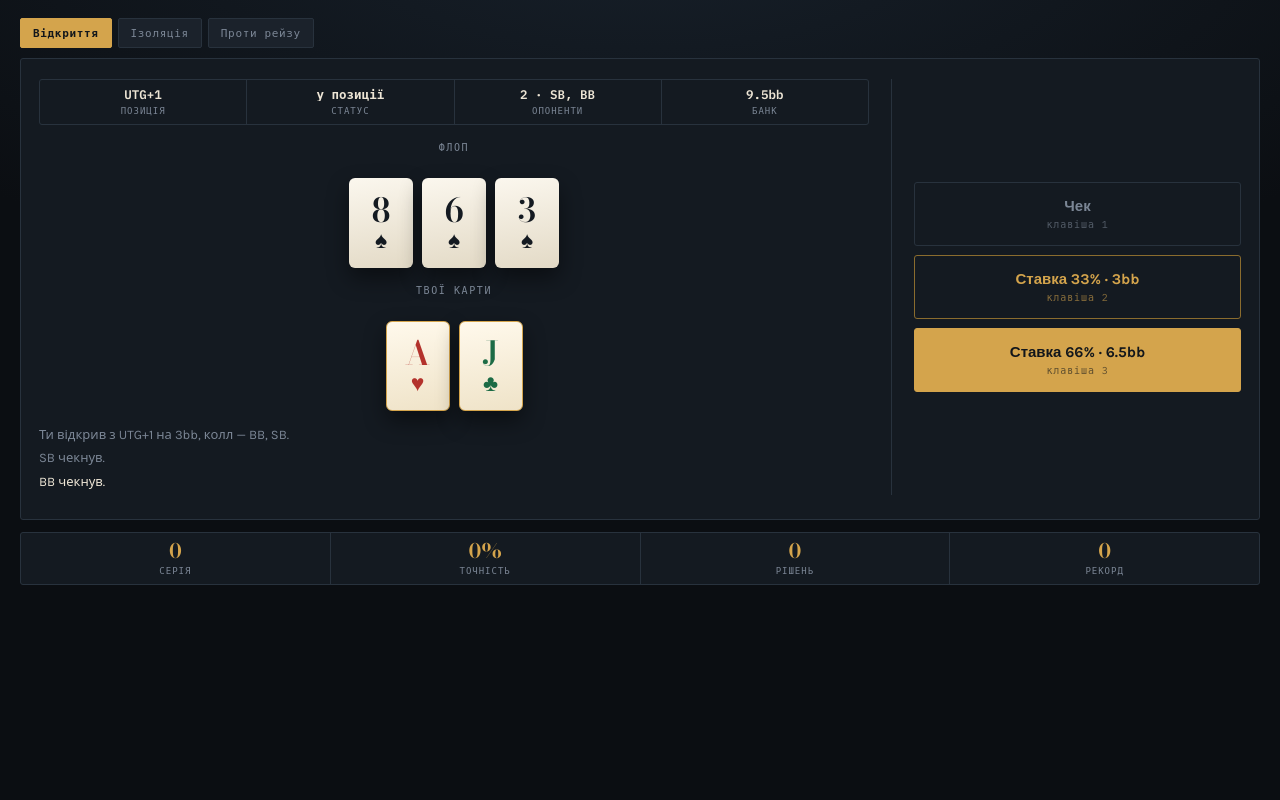
Test: TrainPost › після кліку по дії кнопки зникають і зʼявляється вердикт
Click the button with class "act-btn" showing "Чек клавіша 1".
click(1078, 214)  # box [914, 182, 1241, 246]
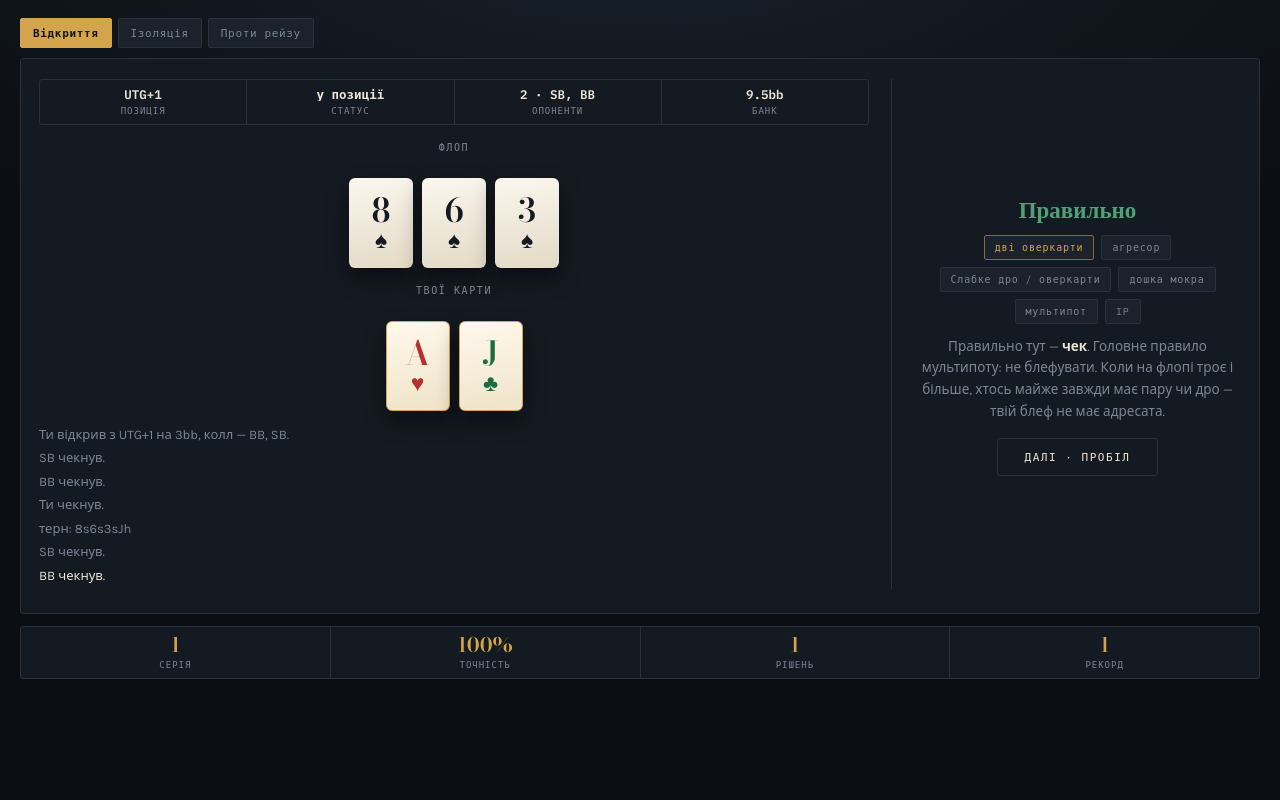
Now no buttons with class "act-btn" are shown
Now the element that starts with "Правильно" is shown, box [914, 192, 1241, 476]
